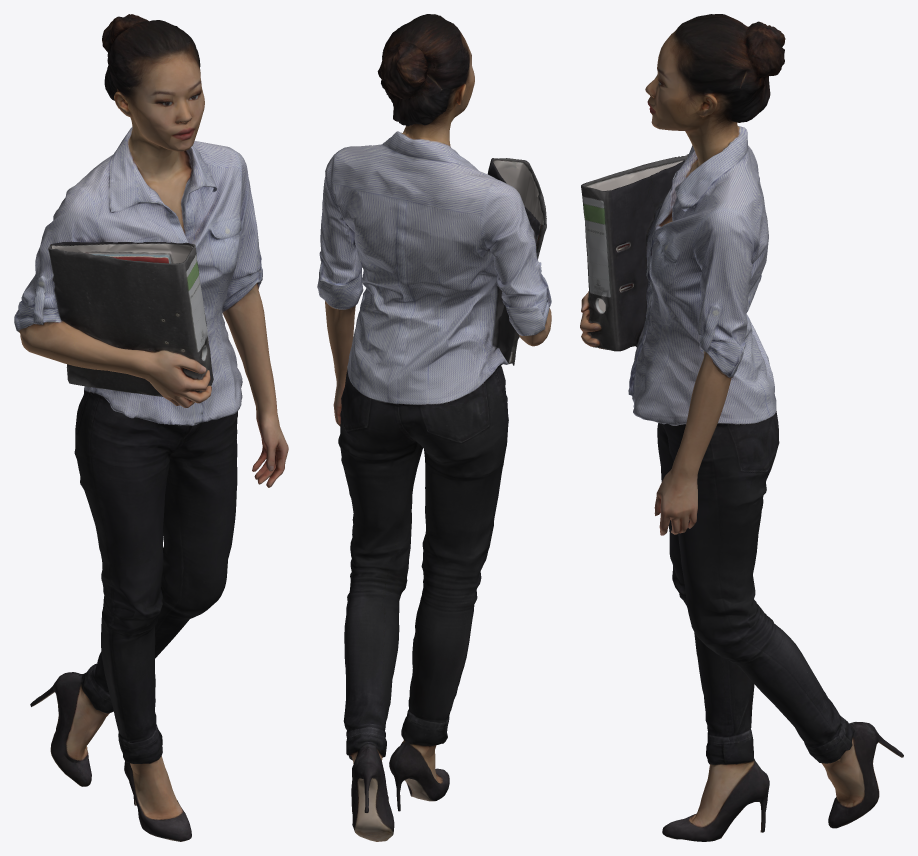
3 views of the same model, side by side, from view 1: azimuth 30°, elevation 25°; view 2: azimuth 150°, elevation 25°; view 3: azimuth 270°, elevation 25° (orthographic). The views are drawn at different scales.
Parts seen in each view (by area): view 1: rp_mei_posed_001_30k; view 2: rp_mei_posed_001_30k; view 3: rp_mei_posed_001_30k.
Boxes of the visible parts, x1,y1,x2,y2 form: rp_mei_posed_001_30k: (14, 14, 288, 841); rp_mei_posed_001_30k: (317, 14, 551, 841); rp_mei_posed_001_30k: (580, 14, 903, 841).
Size of the model in its own units: 53.64 by 170 by 61.16.
1 material, 1 textured.
